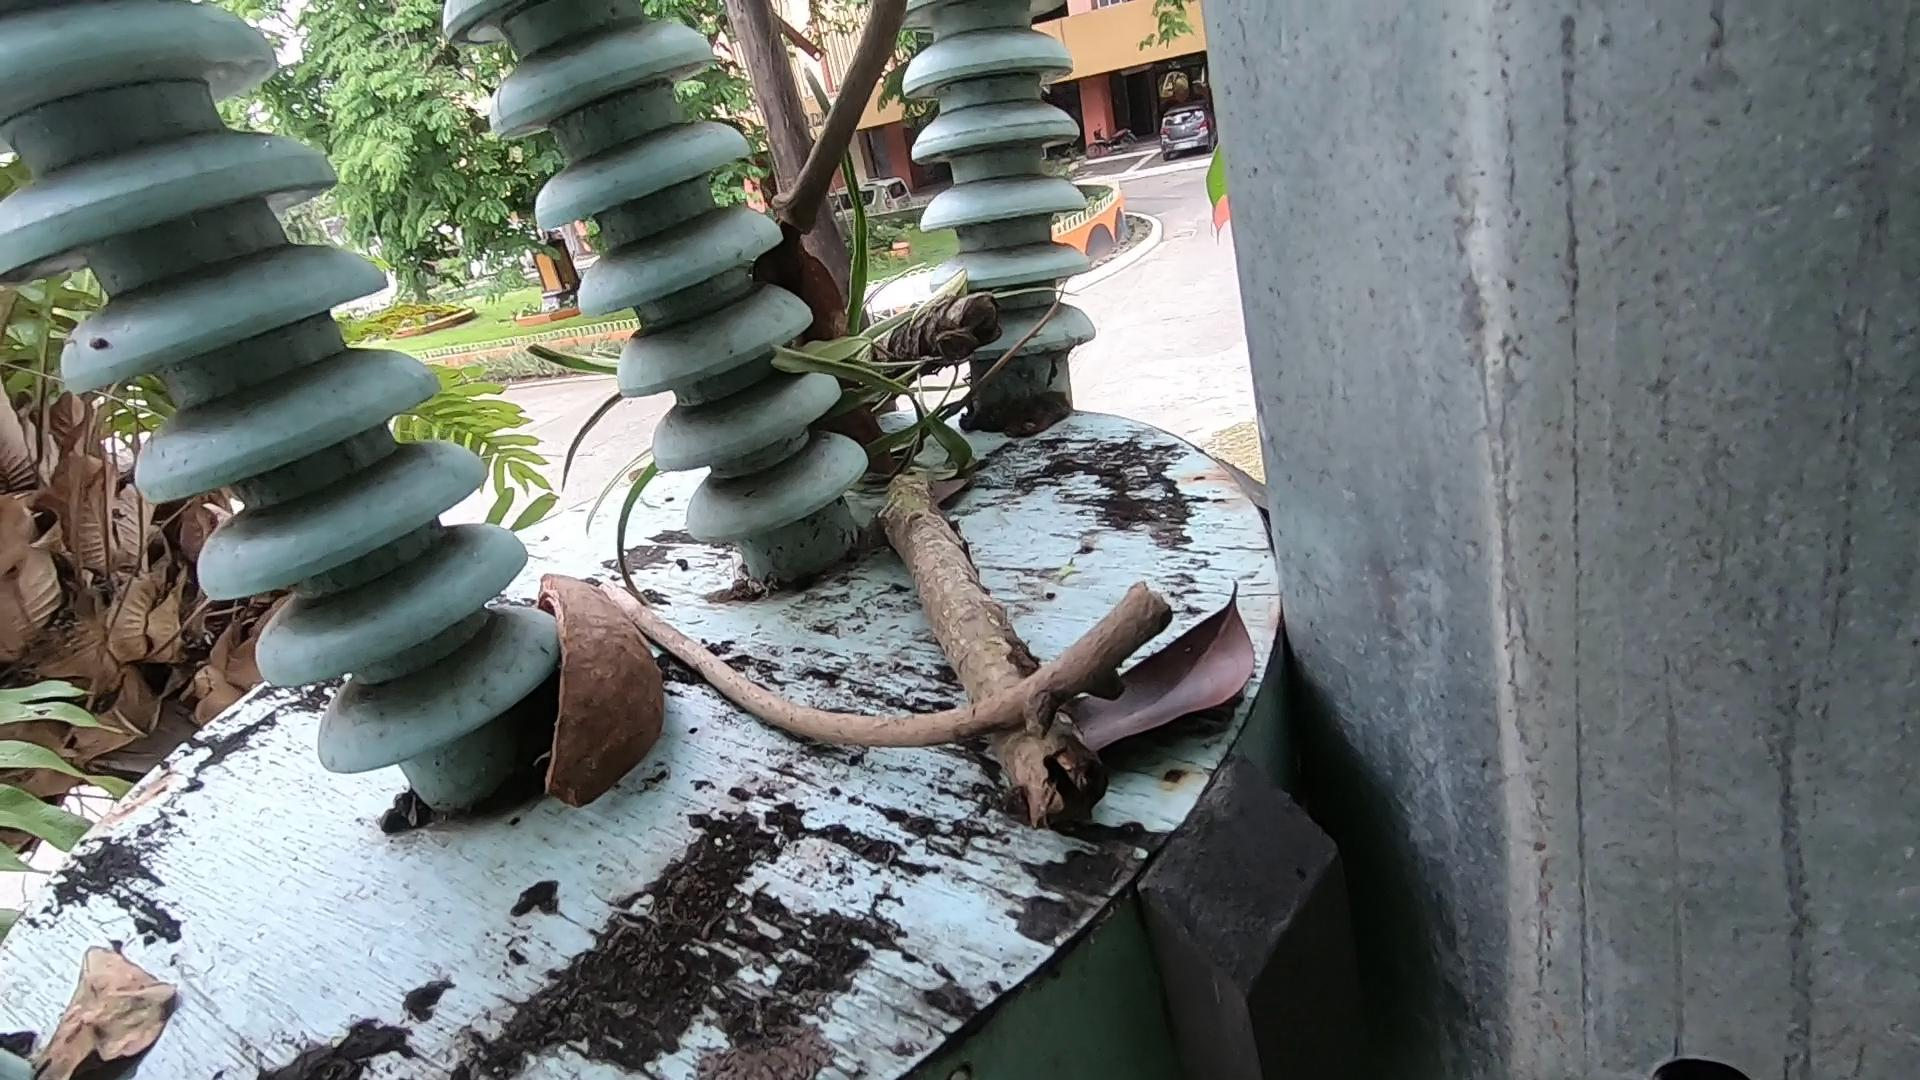branch with leaves: (753, 173, 1127, 823)
leaf: (1072, 546, 1295, 793), (40, 891, 245, 1080)
mahogany fruit: (489, 555, 683, 903), (723, 215, 928, 535)
tree branch: (603, 603, 1258, 767), (764, 1, 862, 282)
